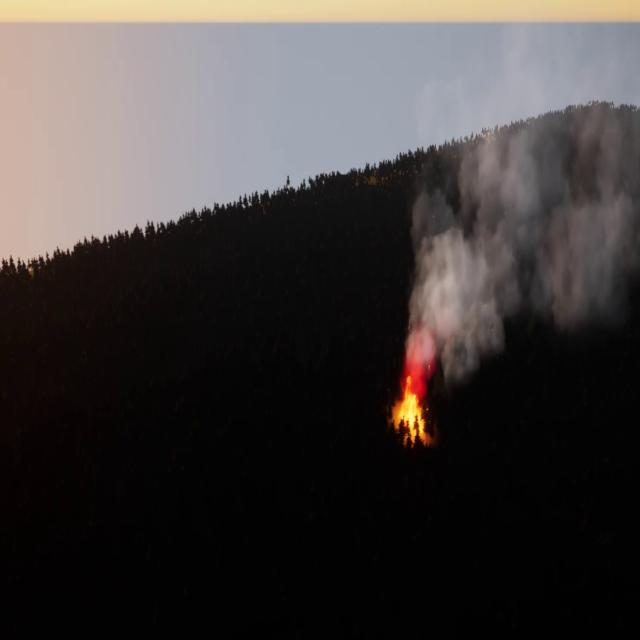fire: (397, 380, 425, 435)
smoke: (403, 47, 640, 389)
